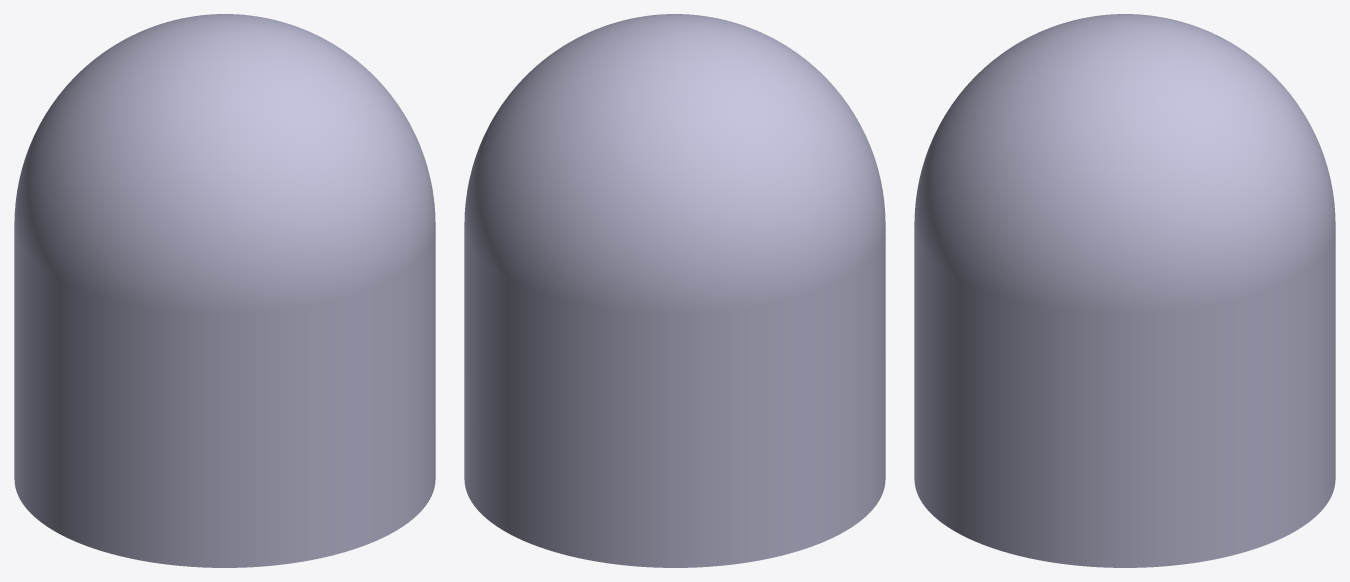
Rendered from OUTFITTING_INTERIOR__EXT. INSTRUMENTS__FLIR MD-625.glb.
3 views of the same model, side by side, from view 1: azimuth 30°, elevation 25°; view 2: azimuth 150°, elevation 25°; view 3: azimuth 270°, elevation 25° (orthographic).
Parts seen in each view (by area): view 1: FLIR MD-625; view 2: FLIR MD-625; view 3: FLIR MD-625.
Boxes of the visible parts, bbox=[...] form: FLIR MD-625: bbox=[14, 14, 435, 567]; FLIR MD-625: bbox=[464, 14, 885, 567]; FLIR MD-625: bbox=[914, 14, 1335, 567].
Size of the model in its own units: 0.1524 by 0.1778 by 0.1524.
